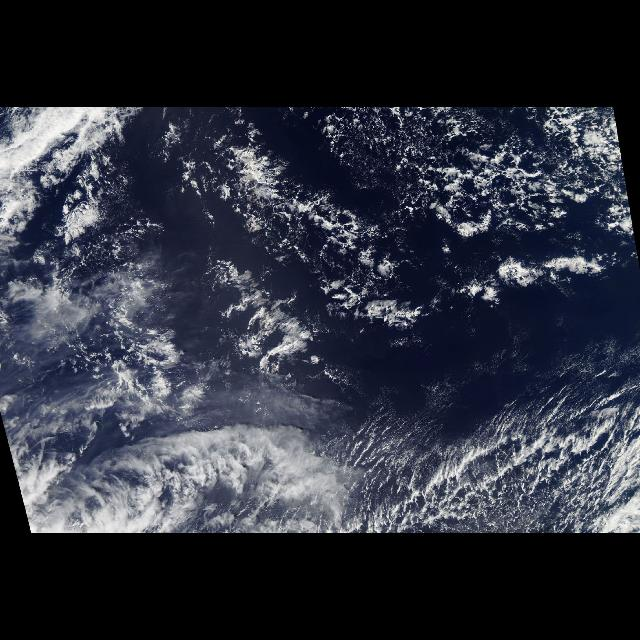Fish: (210, 108, 640, 366), (332, 387, 640, 533)
Gravel: (222, 108, 626, 274)
Sugar: (354, 377, 616, 469)
